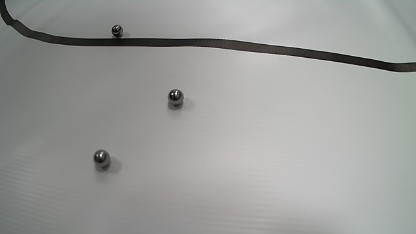ironball: (93, 149, 111, 168), (168, 89, 184, 106), (111, 25, 123, 37)
